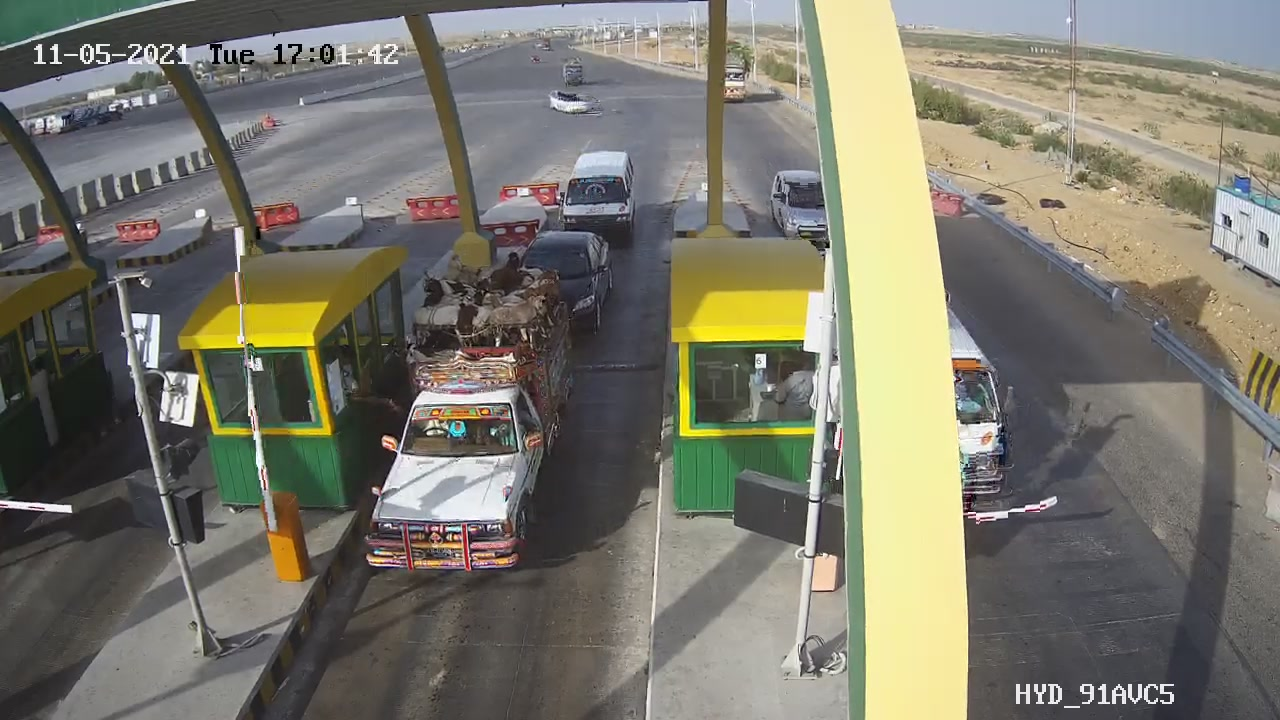F1: (344, 251, 603, 586)
F2: (551, 140, 653, 256)
